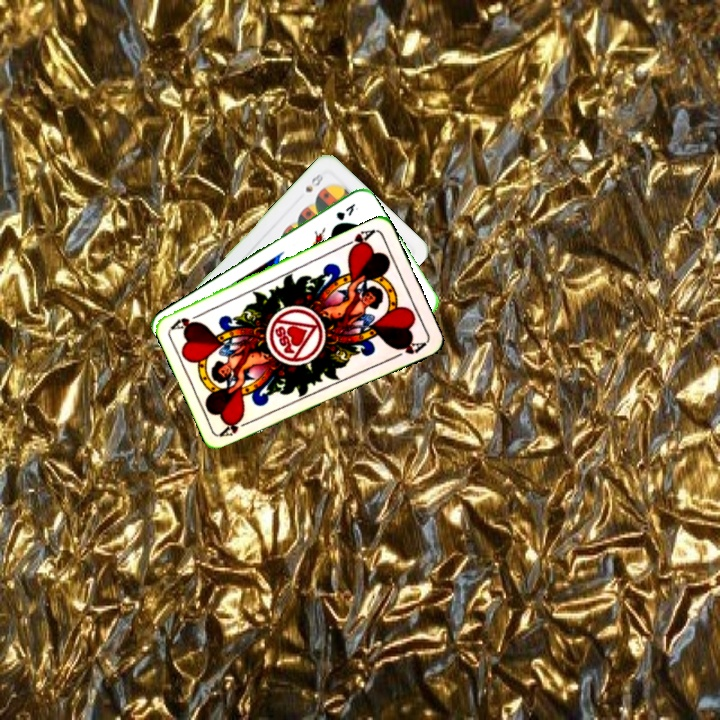GK: (332, 199, 361, 223)
HA: (339, 225, 378, 254), (217, 413, 256, 439)
S8: (301, 169, 326, 195)
